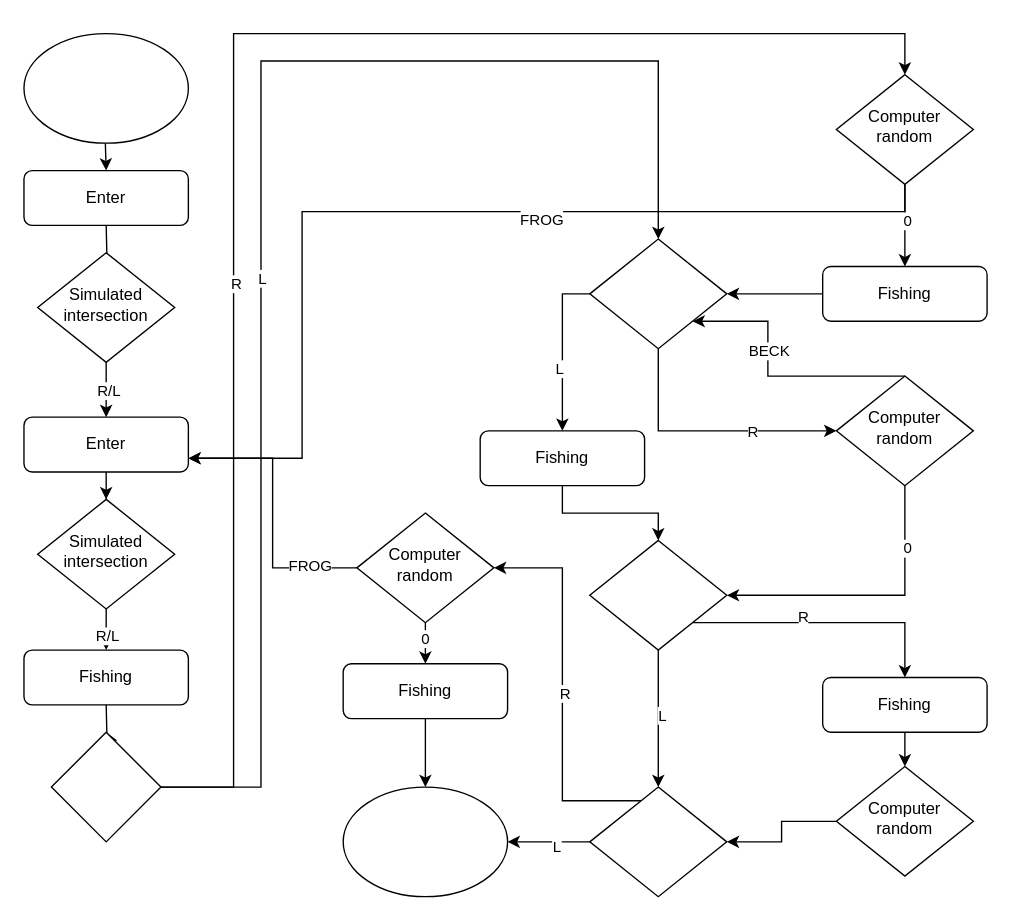
This 1011x921 diagram has some shape labels left out. The shapes that lost their labels are listed below. From the top down, each one's centre as x and y in pixels, then its label:
At (105,87): "Welcome".
At (657,293): "Second junction".
At (657,594): "Third junction".
At (105,786): "First junction".
At (425,841): "End of the program".
At (657,841): "Fourth junction".
